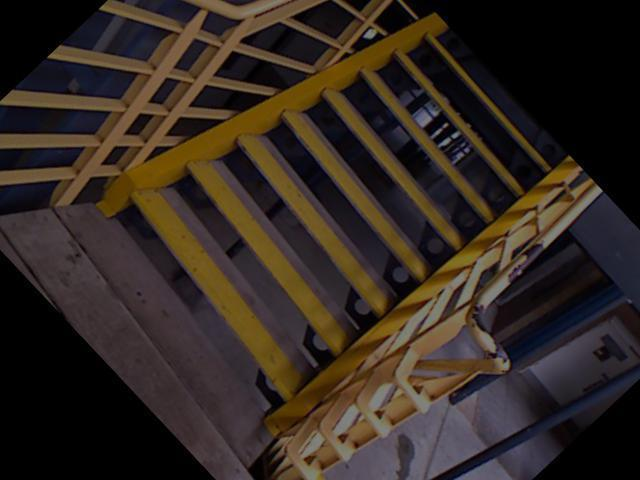Escaleras: (65, 0, 569, 480), (262, 421, 448, 480)
